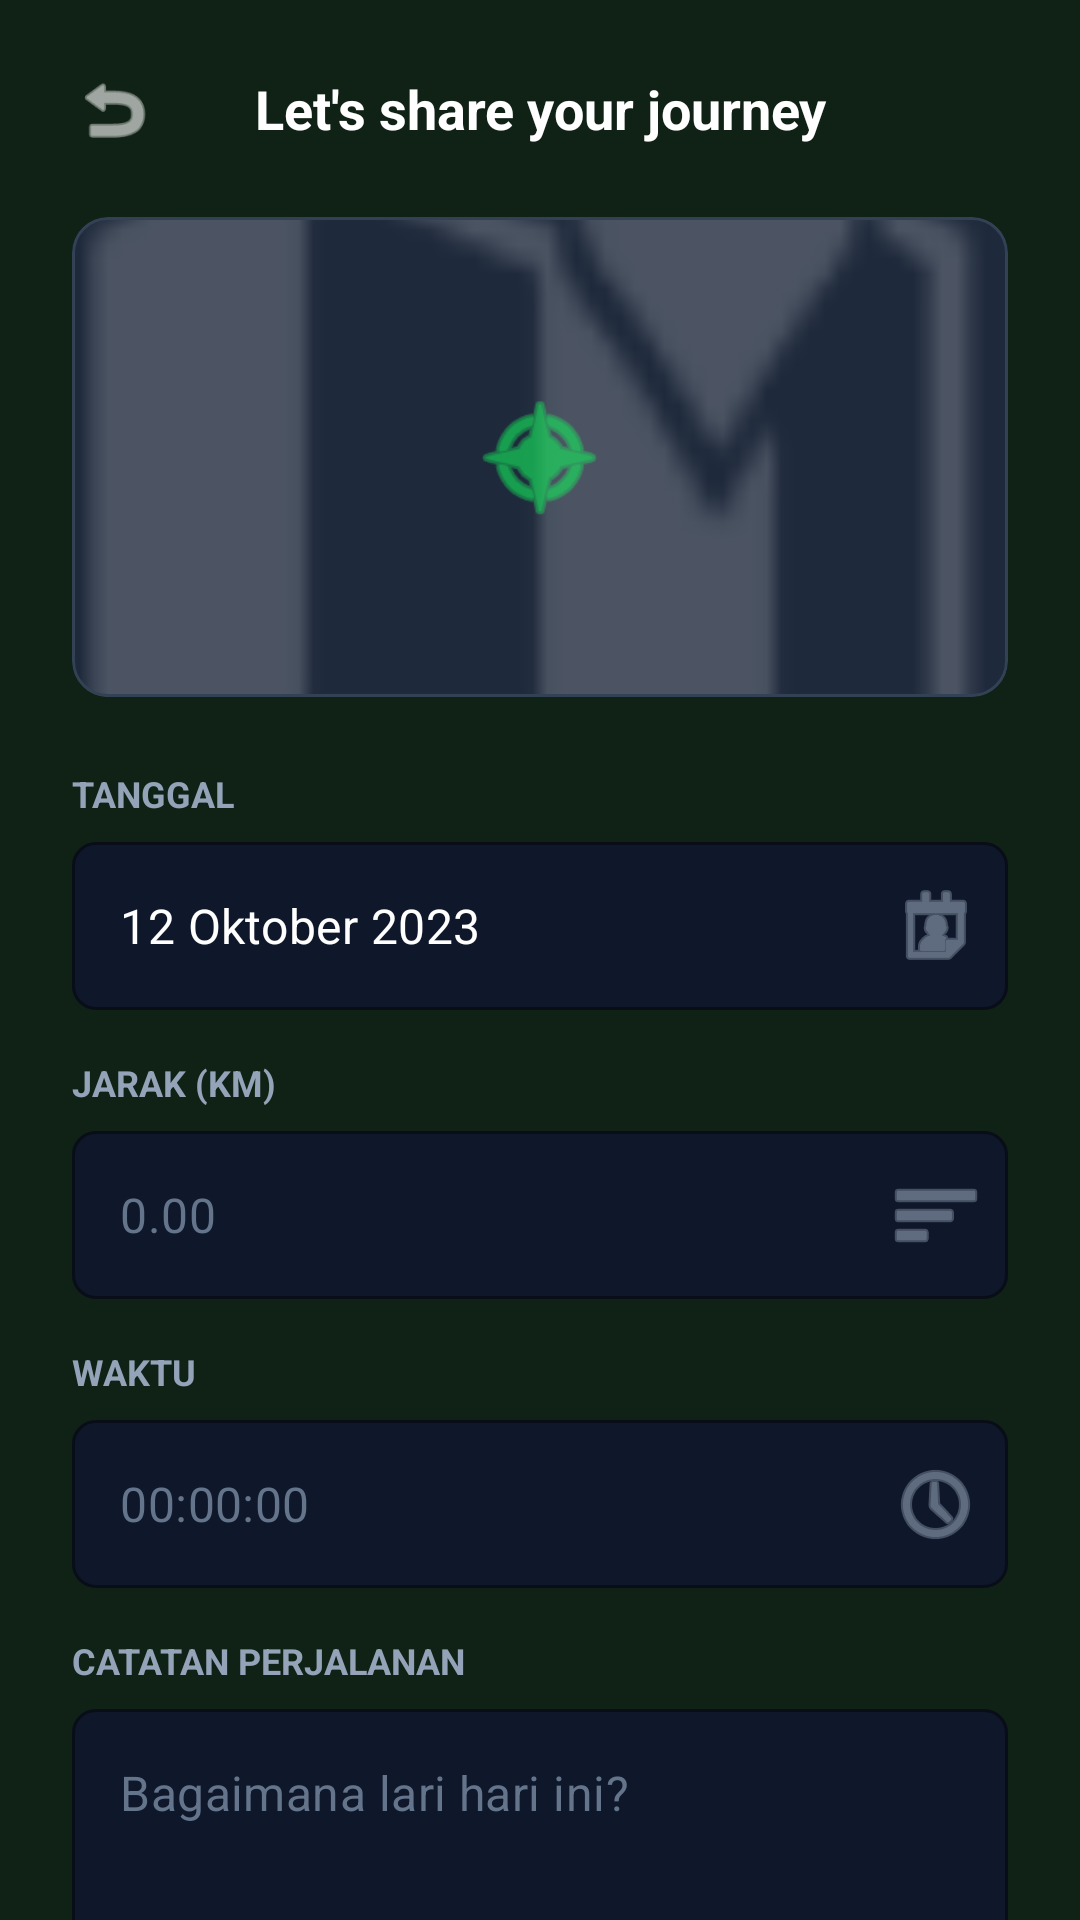

Screen size 1080 x 1920. Icon name, then its box in pixels as {"left": x1, "top": y1, "right": x2, "bottom": y2}:
revert: {"left": 85, "top": 83, "right": 146, "bottom": 138}
